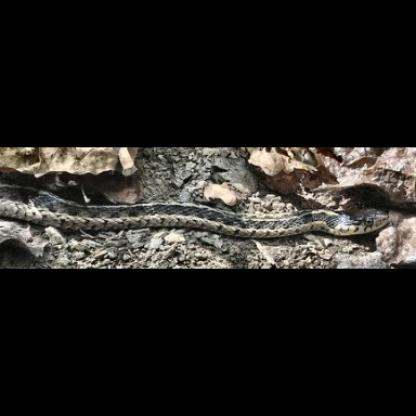Snake: (0, 174, 388, 249)
